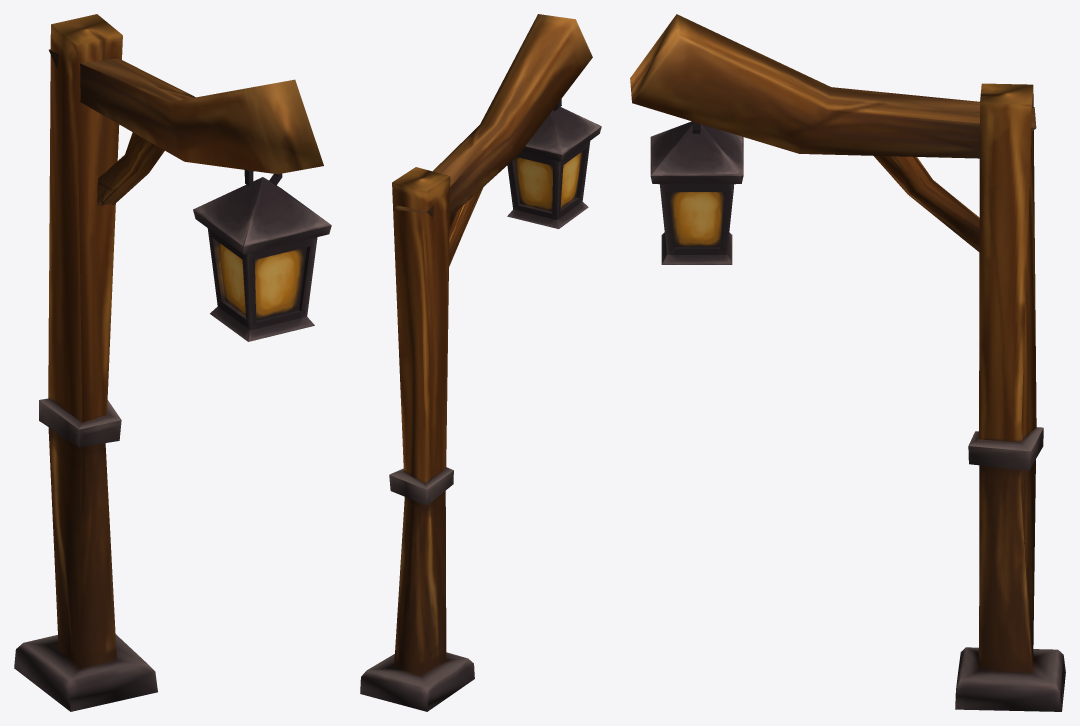
Rendered from lamp_2.fbx.
3 renders of one model, left to right at view 1: azimuth 30°, elevation 25°; view 2: azimuth 150°, elevation 25°; view 3: azimuth 270°, elevation 25°, orthographic. The views are drawn at different scales.
Visible parts, largest first — view 1: lamp_2; view 2: lamp_2; view 3: lamp_2.
Boxes of the visible parts, bbox=[...] form: lamp_2: bbox=[14, 14, 331, 711]; lamp_2: bbox=[360, 14, 601, 711]; lamp_2: bbox=[630, 14, 1065, 711].
Bounding box in the file's own units: 0.4538 × 3.4 × 2.01.
